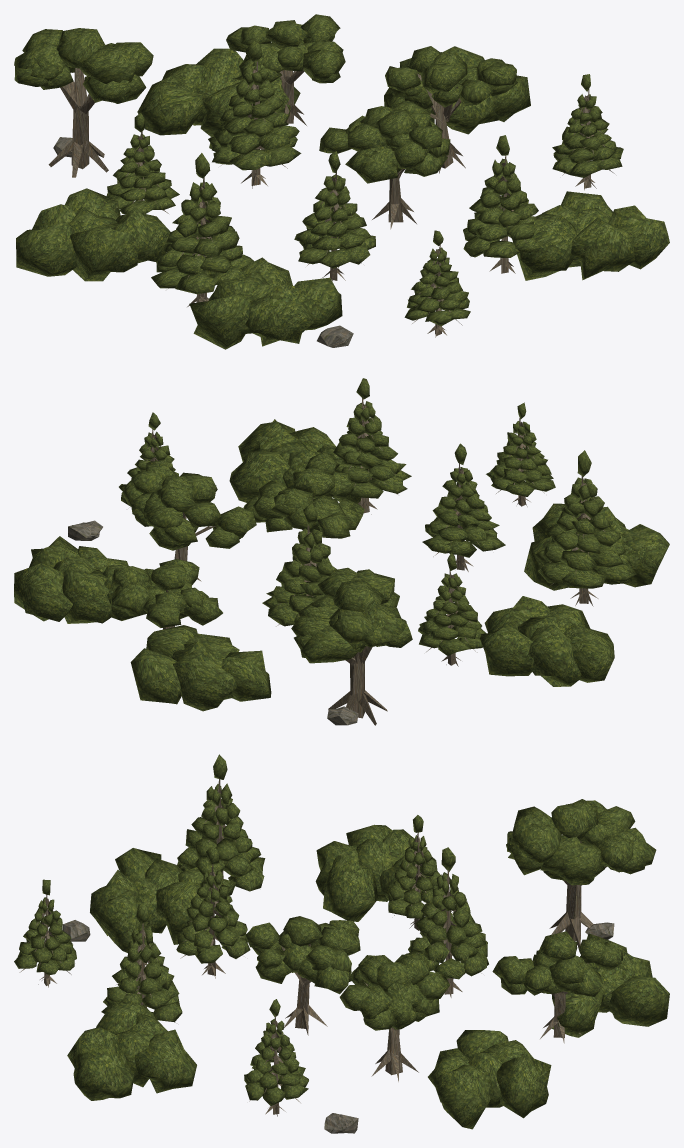
File: forest_mixed_tile_b.gltf
3 renders of one model, top to bottom at view 1: azimuth 30°, elevation 25°; view 2: azimuth 150°, elevation 25°; view 3: azimuth 270°, elevation 25°, orthographic. The views are drawn at different scales.
Parts seen in each view (by area): view 1: forest_mixed_tile_b_game; view 2: forest_mixed_tile_b_game; view 3: forest_mixed_tile_b_game.
Part boxes in pixels (<box>): forest_mixed_tile_b_game: <box>14,14,669,349</box>; forest_mixed_tile_b_game: <box>14,378,669,725</box>; forest_mixed_tile_b_game: <box>14,754,669,1133</box>.
Bounding box in the file's own units: 1.53 × 0.4252 × 1.51.
Materials: 3 (3 with a texture image).
